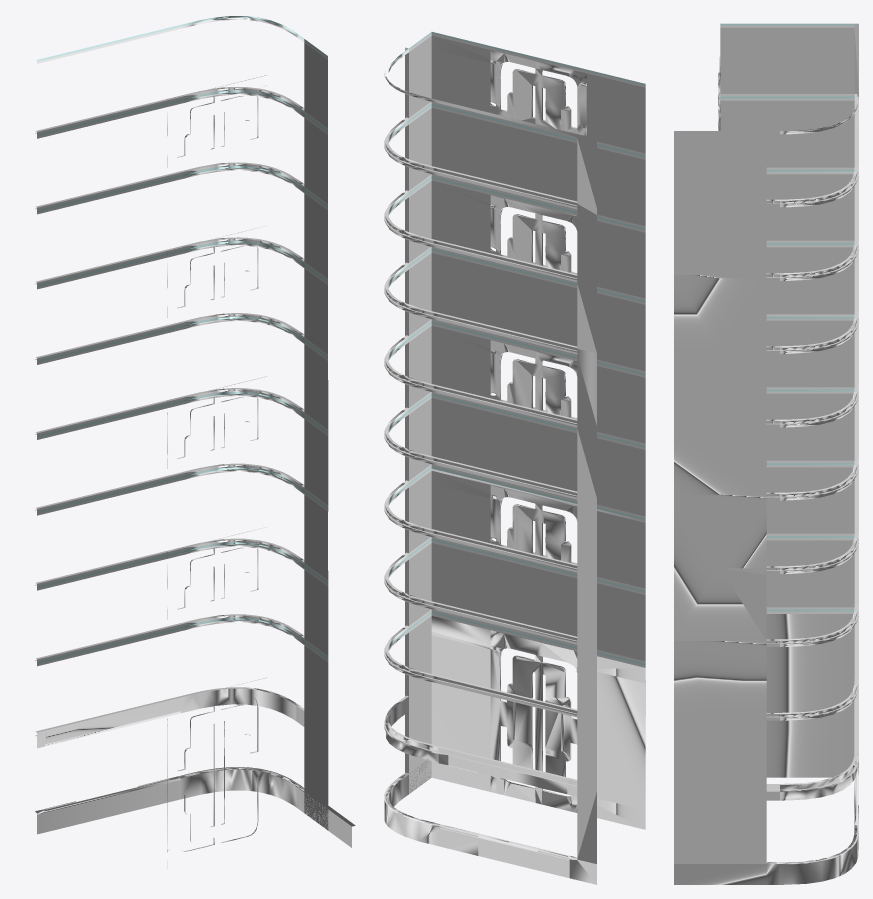
Rendered from deluxe_elevator_shaft_02.glb.
The picture shows the model from 3 angles, left to right: view 1: azimuth 30°, elevation 25°; view 2: azimuth 150°, elevation 25°; view 3: azimuth 270°, elevation 25°; orthographic projection. The views are drawn at different scales.
Bounding box in the file's own units: 12.01 × 36 × 8.
